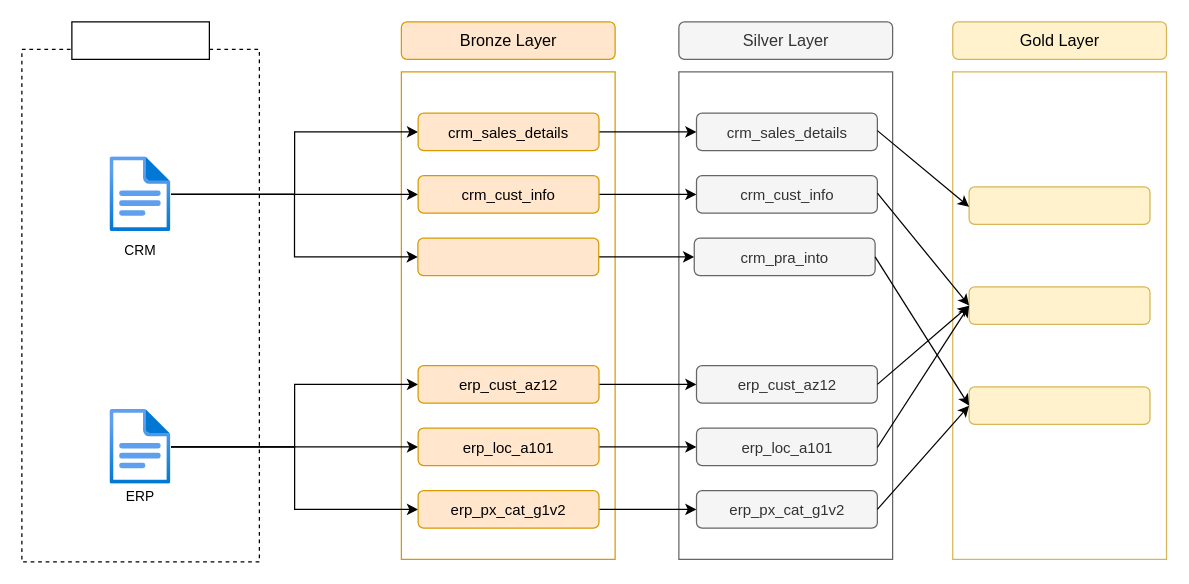
Image size: 1189x584. Some labels were removed from this diagram. The centre of each missing label's shape, as x and y in pixels:
crm_prd_info: the point at 508,256
dim_customers: the point at 1059,305
dim_products: the point at 1059,405
fact_sales: the point at 1059,205
Sources: the point at 140,40
